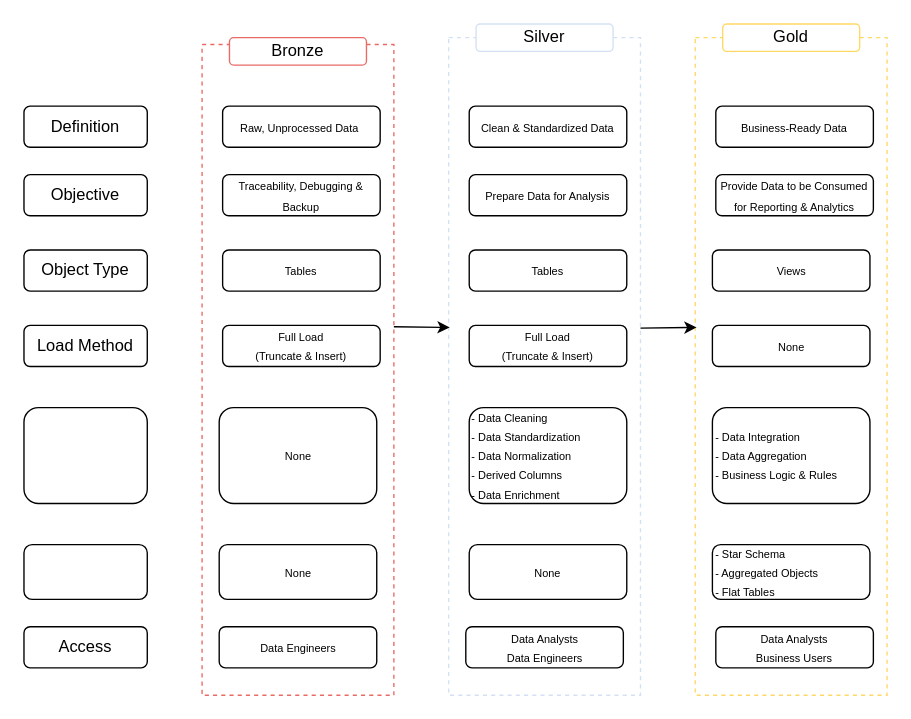
The diagram is 911 pixels wide and 719 high, and some of its shapes have lost their labels. The centre of each missing label's shape, as x and y in pixels:
"Data Modelling" belongs at (85,571).
"Data Transformations" belongs at (85,454).
